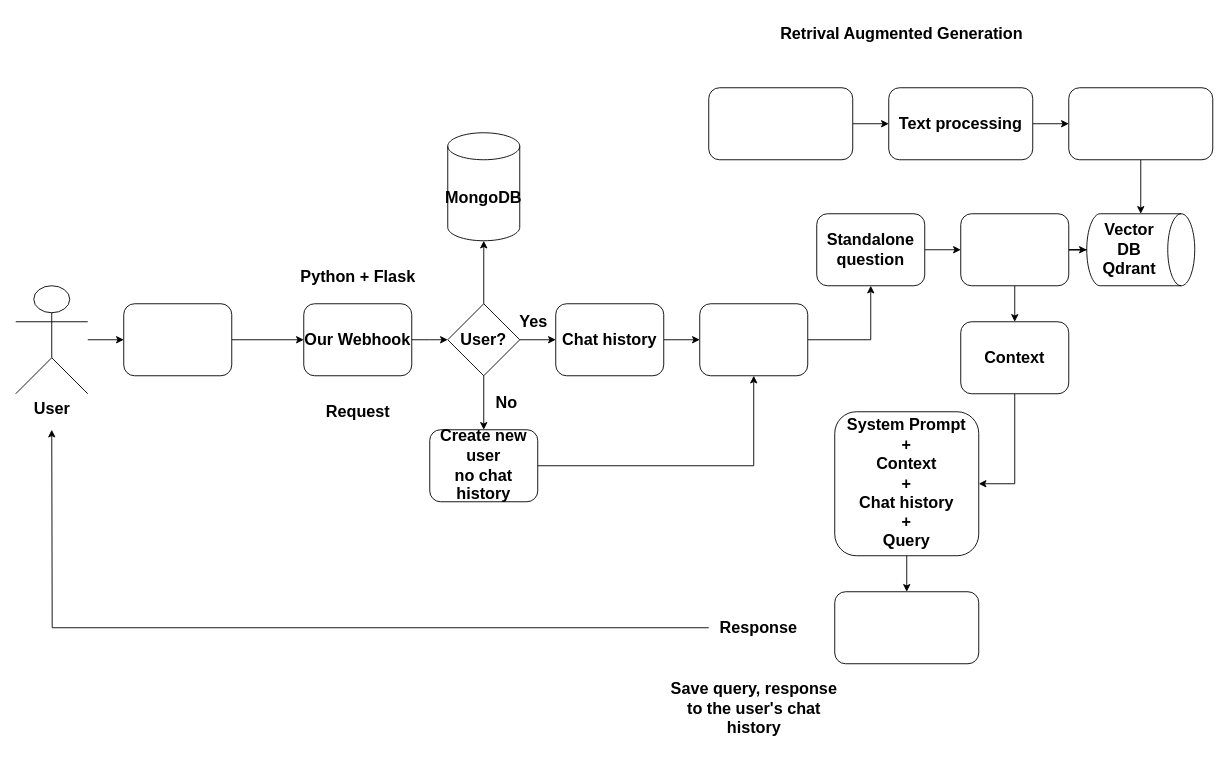
The diagram is 1229 pixels wide and 760 high, and some of its shapes have lost their labels. Here are the shapes that lost their labels. From the top down, the centre of each, then its label:
At point 780,123: "Document".
At point 1140,123: "Embeddings".
At point 1014,249: "Search the vector db".
At point 177,339: "WhatsApp Twilio".
At point 753,339: "Query + Chat history".
At point 906,627: "LLM (Gpt3.5, Gpt4)".
